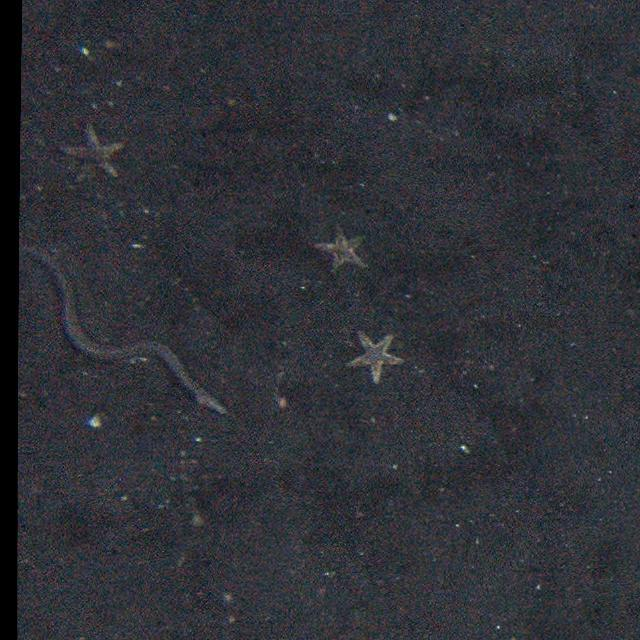eel: (20, 242, 226, 419)
